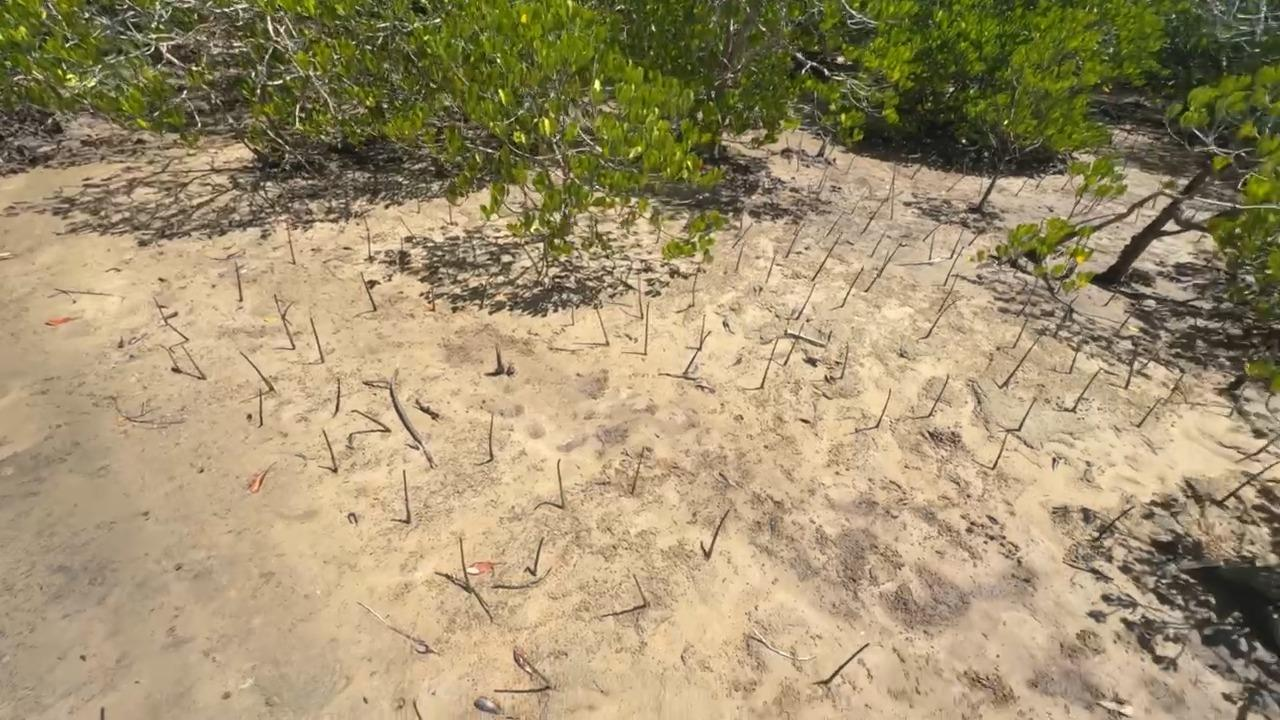Tree: (355, 600, 435, 654), (1228, 358, 1276, 418), (1053, 270, 1094, 339), (1217, 461, 1280, 505), (998, 334, 1043, 389), (824, 642, 870, 684), (1015, 264, 1048, 317), (1093, 505, 1136, 542), (811, 232, 843, 281), (1070, 367, 1102, 412), (239, 351, 273, 390), (1235, 434, 1280, 463), (682, 331, 712, 374), (925, 299, 958, 338), (513, 649, 550, 683), (706, 508, 730, 560), (863, 249, 889, 292), (759, 337, 780, 389), (840, 265, 864, 308), (783, 322, 805, 366), (350, 409, 391, 432), (928, 373, 949, 417), (181, 345, 207, 380), (938, 272, 959, 313), (860, 200, 884, 235), (943, 246, 964, 286), (795, 283, 816, 320), (1136, 397, 1161, 428), (321, 427, 338, 472), (1018, 396, 1038, 433), (309, 317, 325, 363), (630, 446, 645, 495), (1162, 374, 1184, 406), (459, 536, 471, 593), (875, 388, 892, 428), (785, 224, 805, 258), (1137, 347, 1162, 374), (879, 245, 900, 277), (360, 272, 377, 311), (991, 433, 1008, 470), (595, 305, 610, 345), (160, 344, 181, 371), (732, 222, 753, 249), (281, 314, 296, 350), (632, 573, 648, 606), (1012, 315, 1028, 348), (1124, 348, 1137, 388), (948, 229, 965, 259), (165, 319, 188, 340), (826, 212, 845, 237), (533, 537, 545, 576), (764, 250, 778, 283), (285, 219, 295, 264), (885, 162, 896, 202), (691, 263, 701, 306), (403, 470, 411, 523), (557, 458, 565, 509), (234, 259, 243, 302), (922, 223, 942, 242), (153, 296, 167, 323), (851, 189, 866, 214), (840, 341, 849, 379), (400, 218, 416, 239), (644, 300, 650, 356), (637, 273, 644, 320), (796, 132, 804, 172), (699, 313, 707, 352), (945, 176, 964, 192), (273, 293, 284, 319), (1069, 345, 1079, 373), (495, 345, 504, 375), (1015, 177, 1029, 196), (1152, 180, 1161, 209), (489, 412, 494, 461), (1103, 290, 1117, 307), (735, 245, 744, 271), (928, 232, 936, 261), (968, 231, 983, 246), (1120, 313, 1133, 330), (335, 379, 341, 412), (910, 164, 922, 180), (845, 156, 855, 174), (1034, 175, 1046, 190), (1060, 176, 1072, 191), (413, 699, 421, 720), (479, 285, 486, 309), (259, 389, 263, 426), (786, 136, 791, 165), (367, 233, 372, 259), (431, 288, 436, 311), (448, 203, 453, 224), (570, 305, 575, 325), (363, 215, 369, 231), (978, 176, 982, 198), (1135, 206, 1140, 223), (417, 196, 421, 214)
